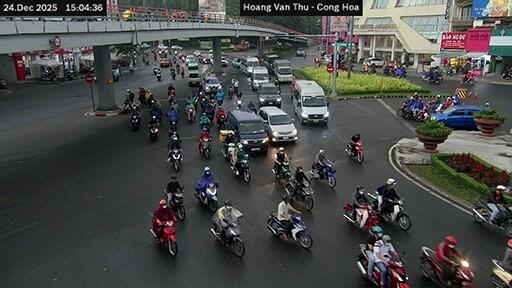motorbike: (419, 246, 473, 286), (210, 207, 243, 256), (266, 212, 312, 247), (474, 197, 511, 235), (374, 198, 409, 229), (358, 243, 380, 286), (150, 220, 176, 255), (284, 179, 313, 210), (163, 185, 185, 220), (386, 257, 408, 287), (310, 162, 335, 187), (195, 184, 217, 211), (492, 259, 511, 287), (230, 154, 248, 181), (342, 202, 361, 225), (272, 161, 291, 180), (346, 140, 361, 162), (364, 205, 377, 229), (167, 148, 181, 170), (198, 139, 211, 157), (413, 107, 429, 121), (422, 72, 442, 82), (396, 103, 410, 117), (147, 122, 157, 140), (131, 111, 140, 130), (186, 103, 195, 121), (41, 68, 54, 80), (217, 113, 226, 130), (121, 97, 131, 112), (64, 68, 74, 80), (461, 76, 474, 85), (199, 121, 210, 131), (368, 190, 377, 202), (502, 67, 511, 77), (233, 81, 239, 95), (79, 66, 93, 72), (227, 85, 233, 98), (445, 67, 454, 75), (169, 121, 176, 130), (0, 79, 6, 89), (154, 71, 160, 80), (128, 64, 133, 72), (170, 71, 175, 79), (154, 66, 157, 75)
